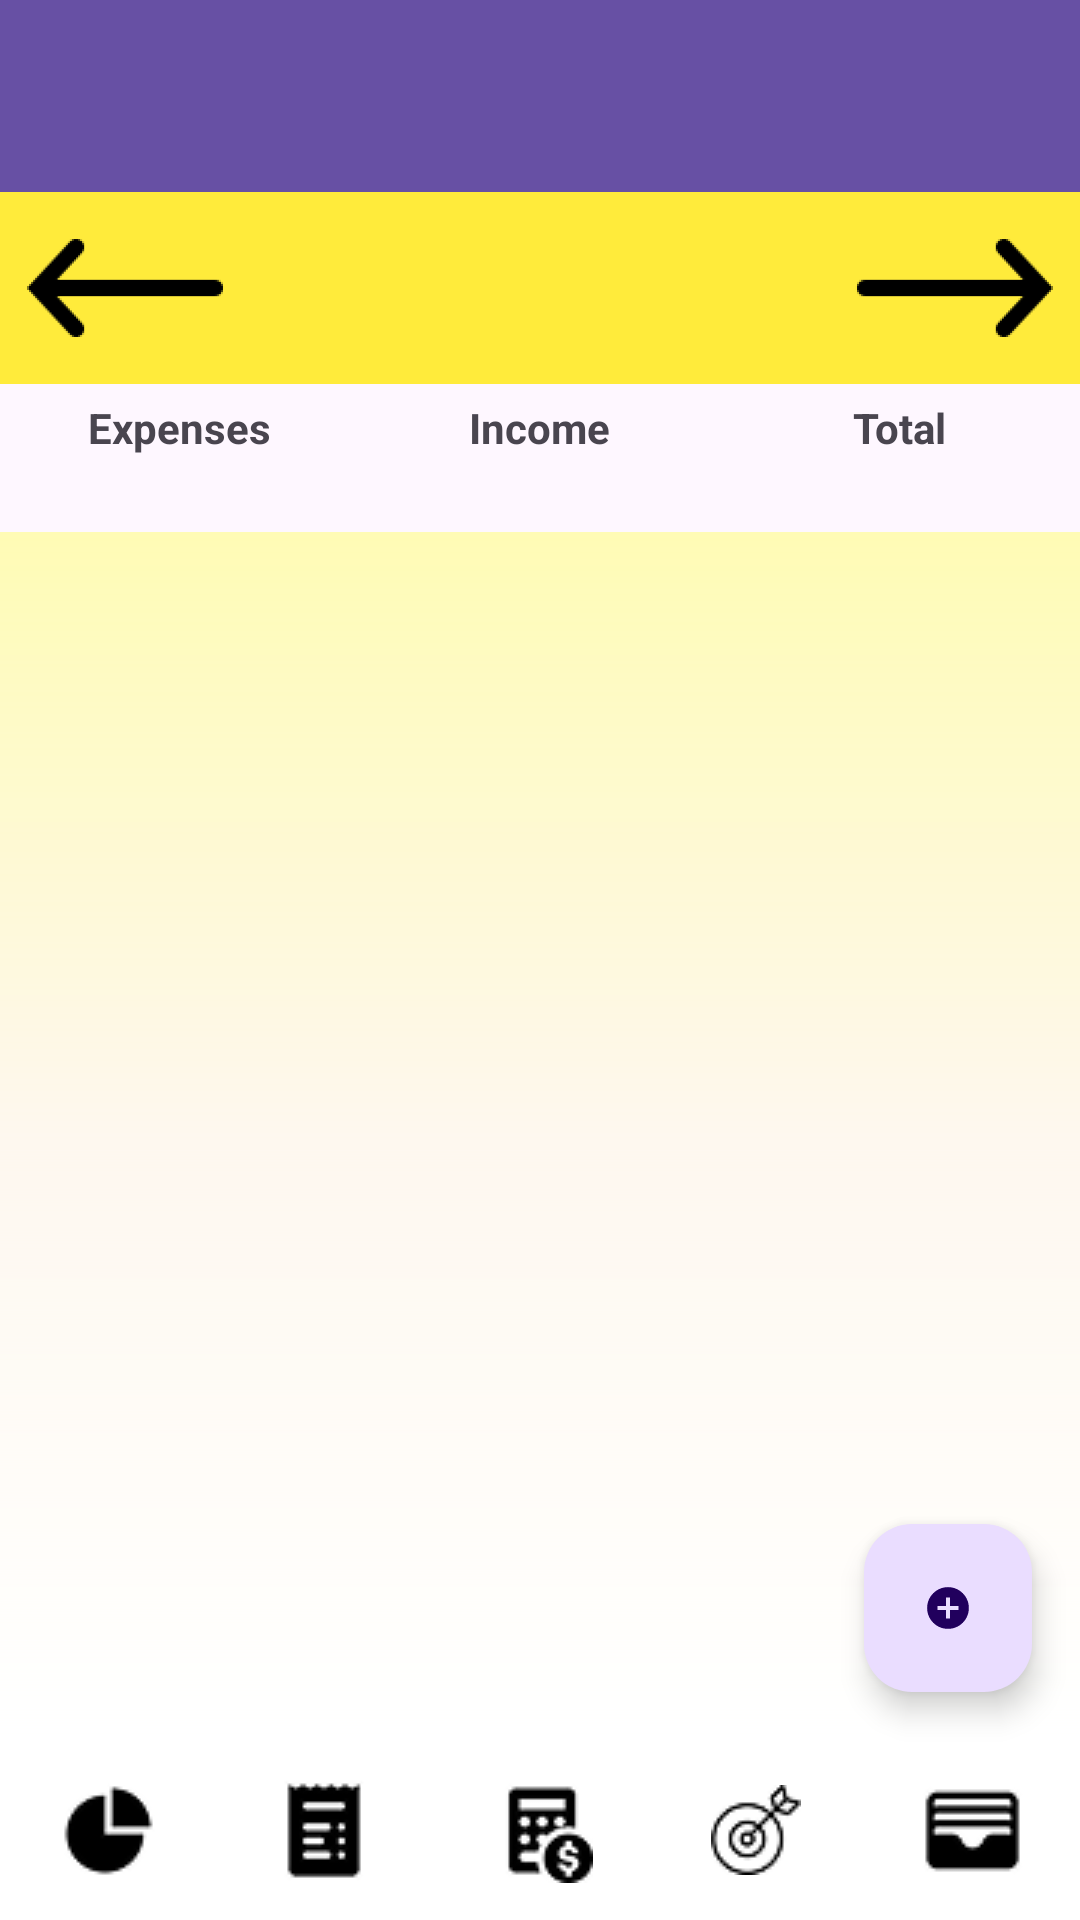

Where icons sit on this 1080 x 1920 app screen, as (x1, y1, x2, y2):
Account: (925, 1789, 1020, 1872)
Add Transaction: (864, 1524, 1032, 1692)
Analytics: (64, 1786, 153, 1875)
Budget: (508, 1786, 593, 1883)
Goals: (711, 1785, 801, 1875)
Next Month: (857, 239, 1053, 337)
Previous Month: (27, 239, 223, 337)
